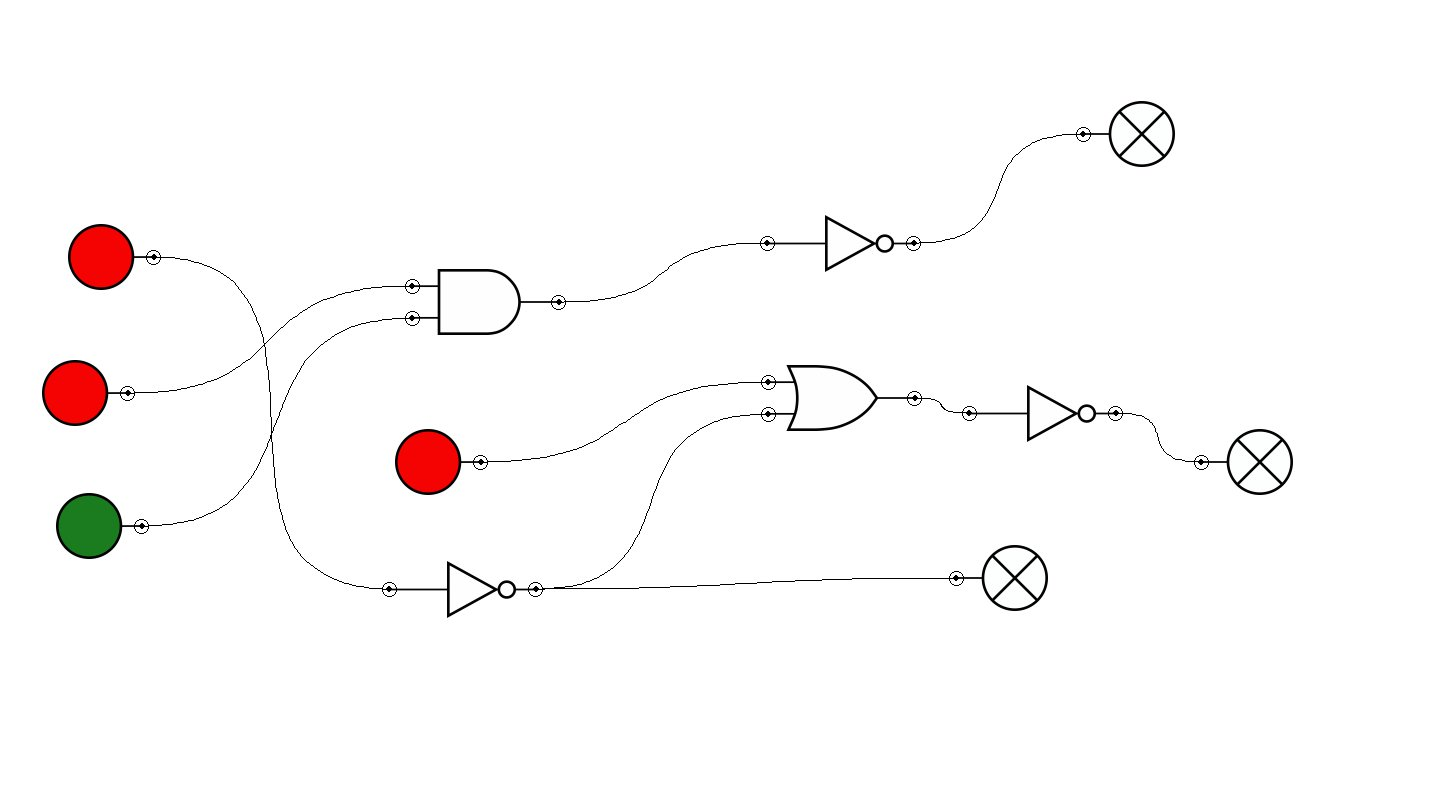and: (405, 269, 566, 335)
bulb: (1194, 429, 1293, 495), (1076, 101, 1175, 167), (949, 545, 1048, 611)
not: (962, 385, 1123, 442), (760, 215, 921, 272), (382, 561, 543, 618)
or: (761, 365, 922, 431)
switch_False: (42, 360, 135, 426), (68, 224, 161, 290), (395, 429, 488, 495)
switch_True: (56, 493, 149, 559)
